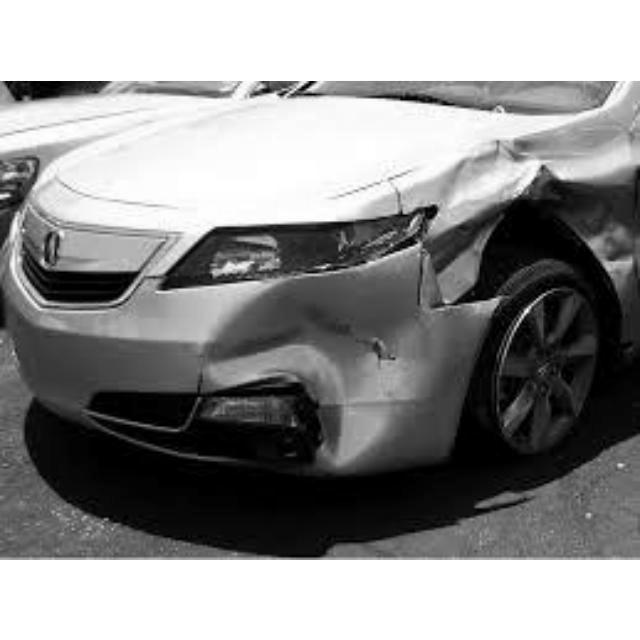Headlight-damage: (188, 194, 432, 275)
fender-dent: (413, 127, 637, 248)
front-bumper-dent: (176, 283, 447, 453)
